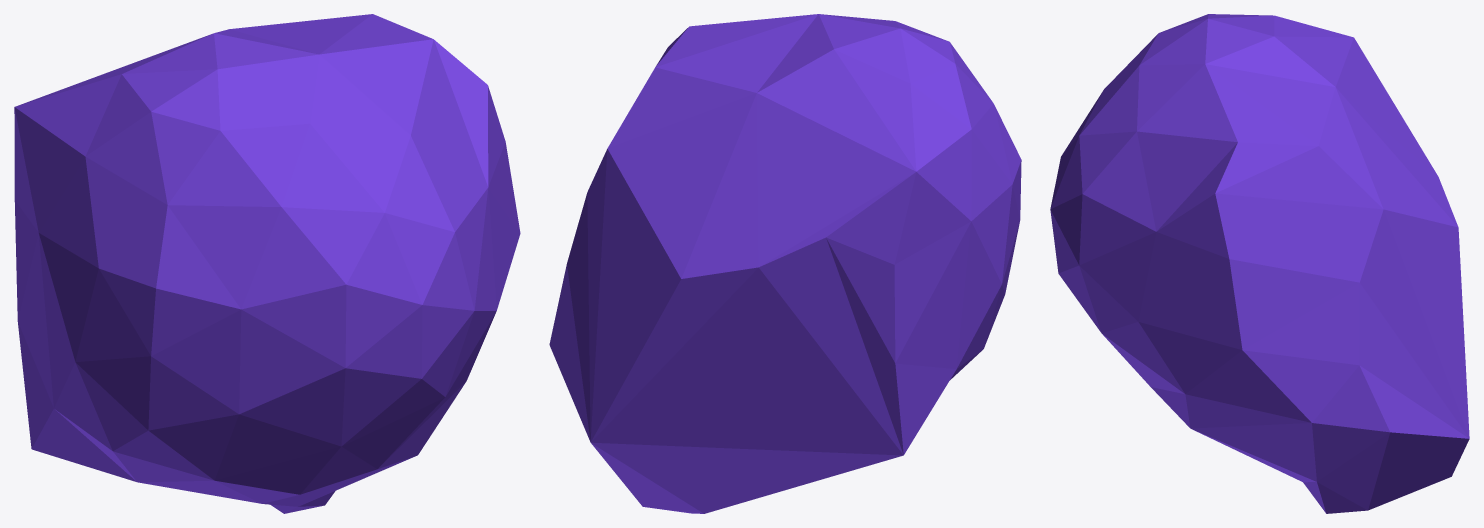
File: Model_10365_LH__Medial_tuberal_nucleus_(MTu).obj
3 views of the same model, side by side, from view 1: azimuth 30°, elevation 25°; view 2: azimuth 150°, elevation 25°; view 3: azimuth 270°, elevation 25° (orthographic). The views are drawn at different scales.
Size of the model in its own units: 0.3516 by 0.3986 by 0.3511.
